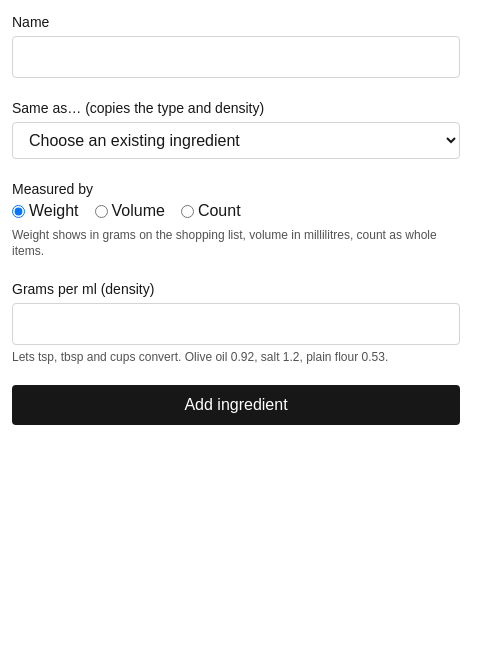
Test: IngredientForm › shows count fields when the type is count
What coordinates should you click on to do the following:
click the radio button labelled "Count"
I would click on:
 (187, 211)
Its box is [181,204,194,218].
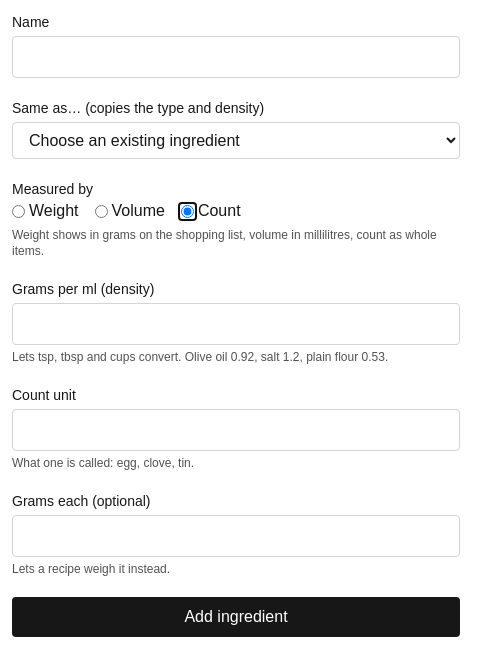
Now the field labelled "Count unit" is shown, box [12,409,460,451]
Now the number field labelled "Grams each (optional)" is shown, box [12,515,460,557]
